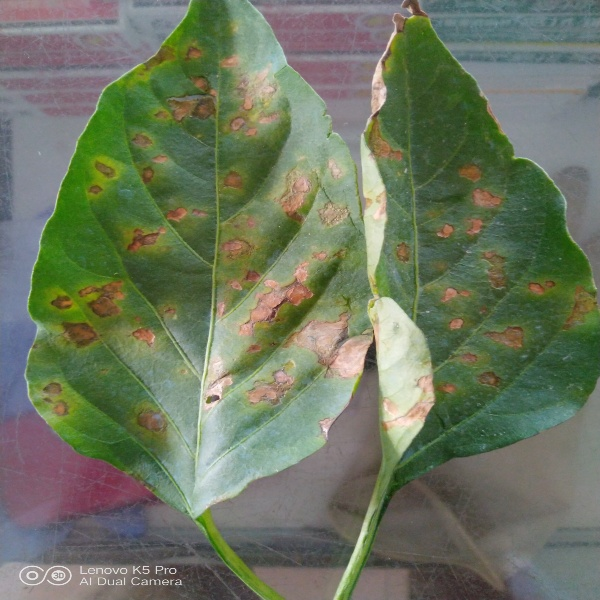Anthrax: (26, 1, 374, 498), (362, 1, 598, 480)
